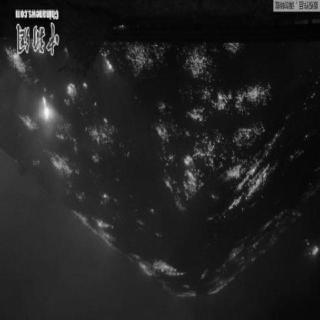Fire: (127, 47, 277, 202), (82, 209, 286, 289), (8, 54, 114, 202), (306, 245, 320, 266)
